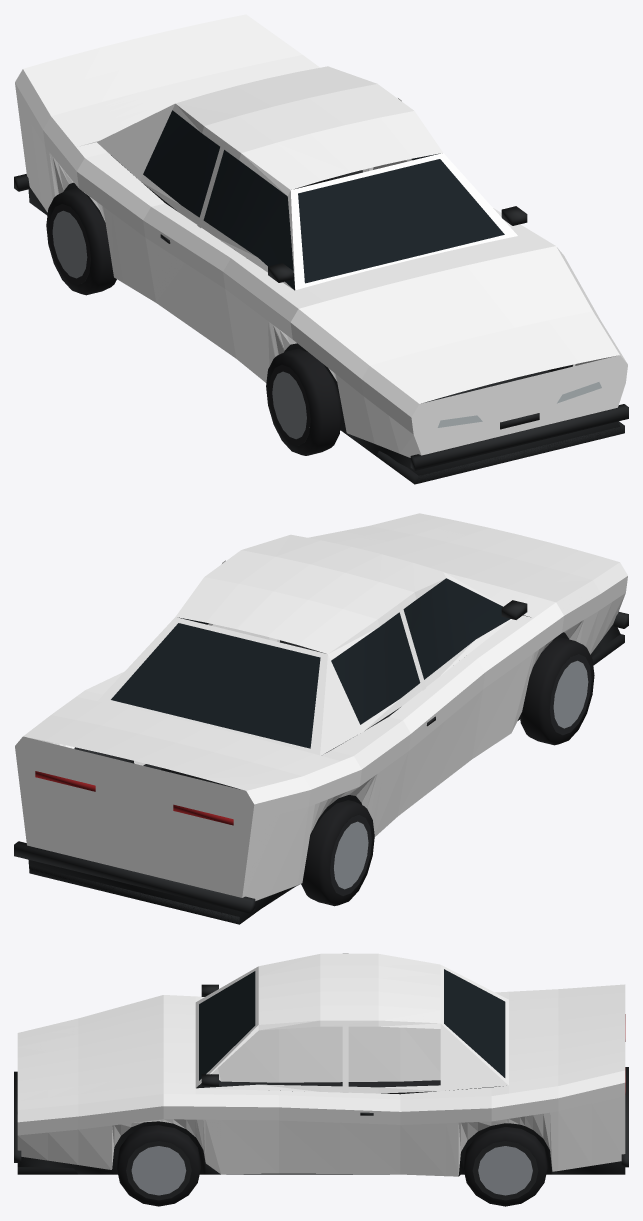
File: hayase_cedro.glb
The picture shows the model from 3 angles, top to bottom: view 1: azimuth 30°, elevation 25°; view 2: azimuth 150°, elevation 25°; view 3: azimuth 270°, elevation 25°; orthographic projection. The views are drawn at different scales.
Visible parts, largest first — view 1: Body_Paint, Body_Details, Mount_FrontLeft_Wheel_Details, Mount_RearLeft_Wheel_Details; view 2: Body_Paint, Body_Details, Mount_FrontLeft_Wheel_Details, Mount_RearLeft_Wheel_Details; view 3: Body_Paint, Body_Details, Mount_FrontRight_Wheel_Details, Mount_RearRight_Wheel_Details.
Boxes of the visible parts, x1=… form: Body_Paint: x1=15, y1=14, x2=627, y2=457; Body_Details: x1=14, y1=110, x2=628, y2=484; Mount_FrontLeft_Wheel_Details: x1=266, y1=348, x2=341, y2=455; Mount_RearLeft_Wheel_Details: x1=46, y1=188, x2=116, y2=295; Body_Paint: x1=15, y1=513, x2=627, y2=900; Body_Details: x1=14, y1=578, x2=628, y2=924; Mount_FrontLeft_Wheel_Details: x1=520, y1=637, x2=594, y2=745; Mount_RearLeft_Wheel_Details: x1=301, y1=800, x2=374, y2=906; Body_Paint: x1=17, y1=953, x2=625, y2=1176; Body_Details: x1=14, y1=969, x2=628, y2=1176; Mount_FrontRight_Wheel_Details: x1=116, y1=1125, x2=200, y2=1206; Mount_RearRight_Wheel_Details: x1=463, y1=1127, x2=547, y2=1206.
Size of the model in its own units: 1.94 by 1.4 by 4.59.
2 materials, 1 textured.
